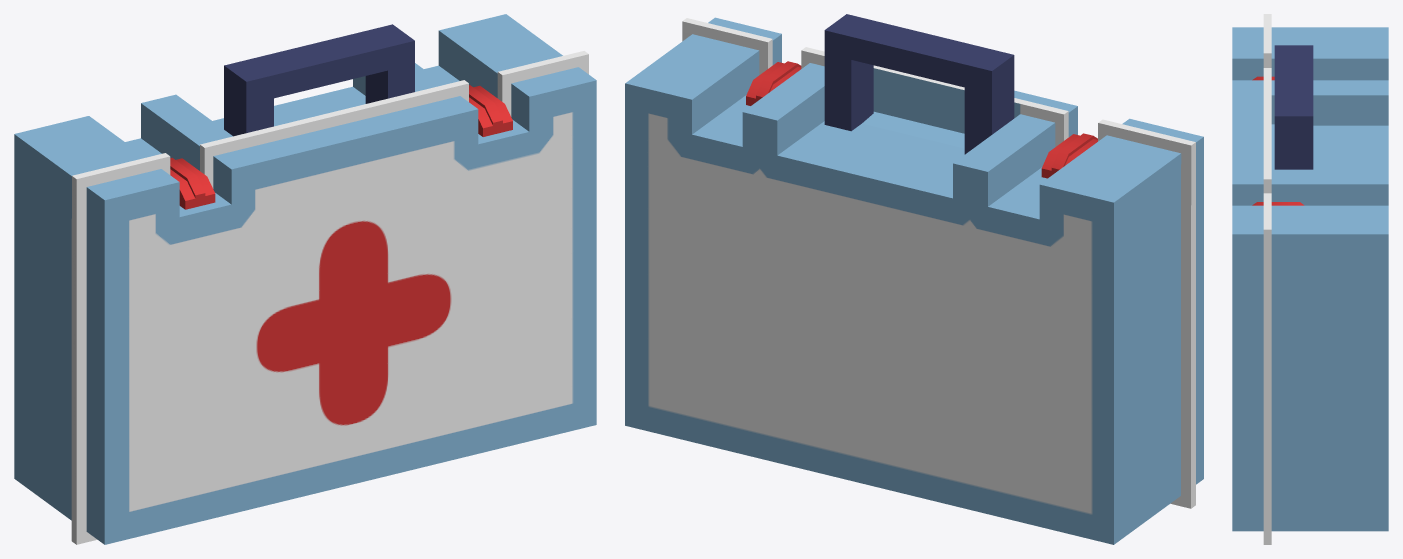
The model's file is Kit_2.fbx.
3 views of the same model, side by side, from view 1: azimuth 30°, elevation 25°; view 2: azimuth 150°, elevation 25°; view 3: azimuth 270°, elevation 25° (orthographic). The views are drawn at different scales.
Parts seen in each view (by area): view 1: Box002; view 2: Box002; view 3: Box002.
Boxes of the visible parts, x1,y1,x2,y2 form: Box002: (14,14,596,544); Box002: (625,14,1203,544); Box002: (1232,14,1388,544).
Bounding box in the file's own units: 138 × 107 × 42.16.
1 material, 1 textured.
